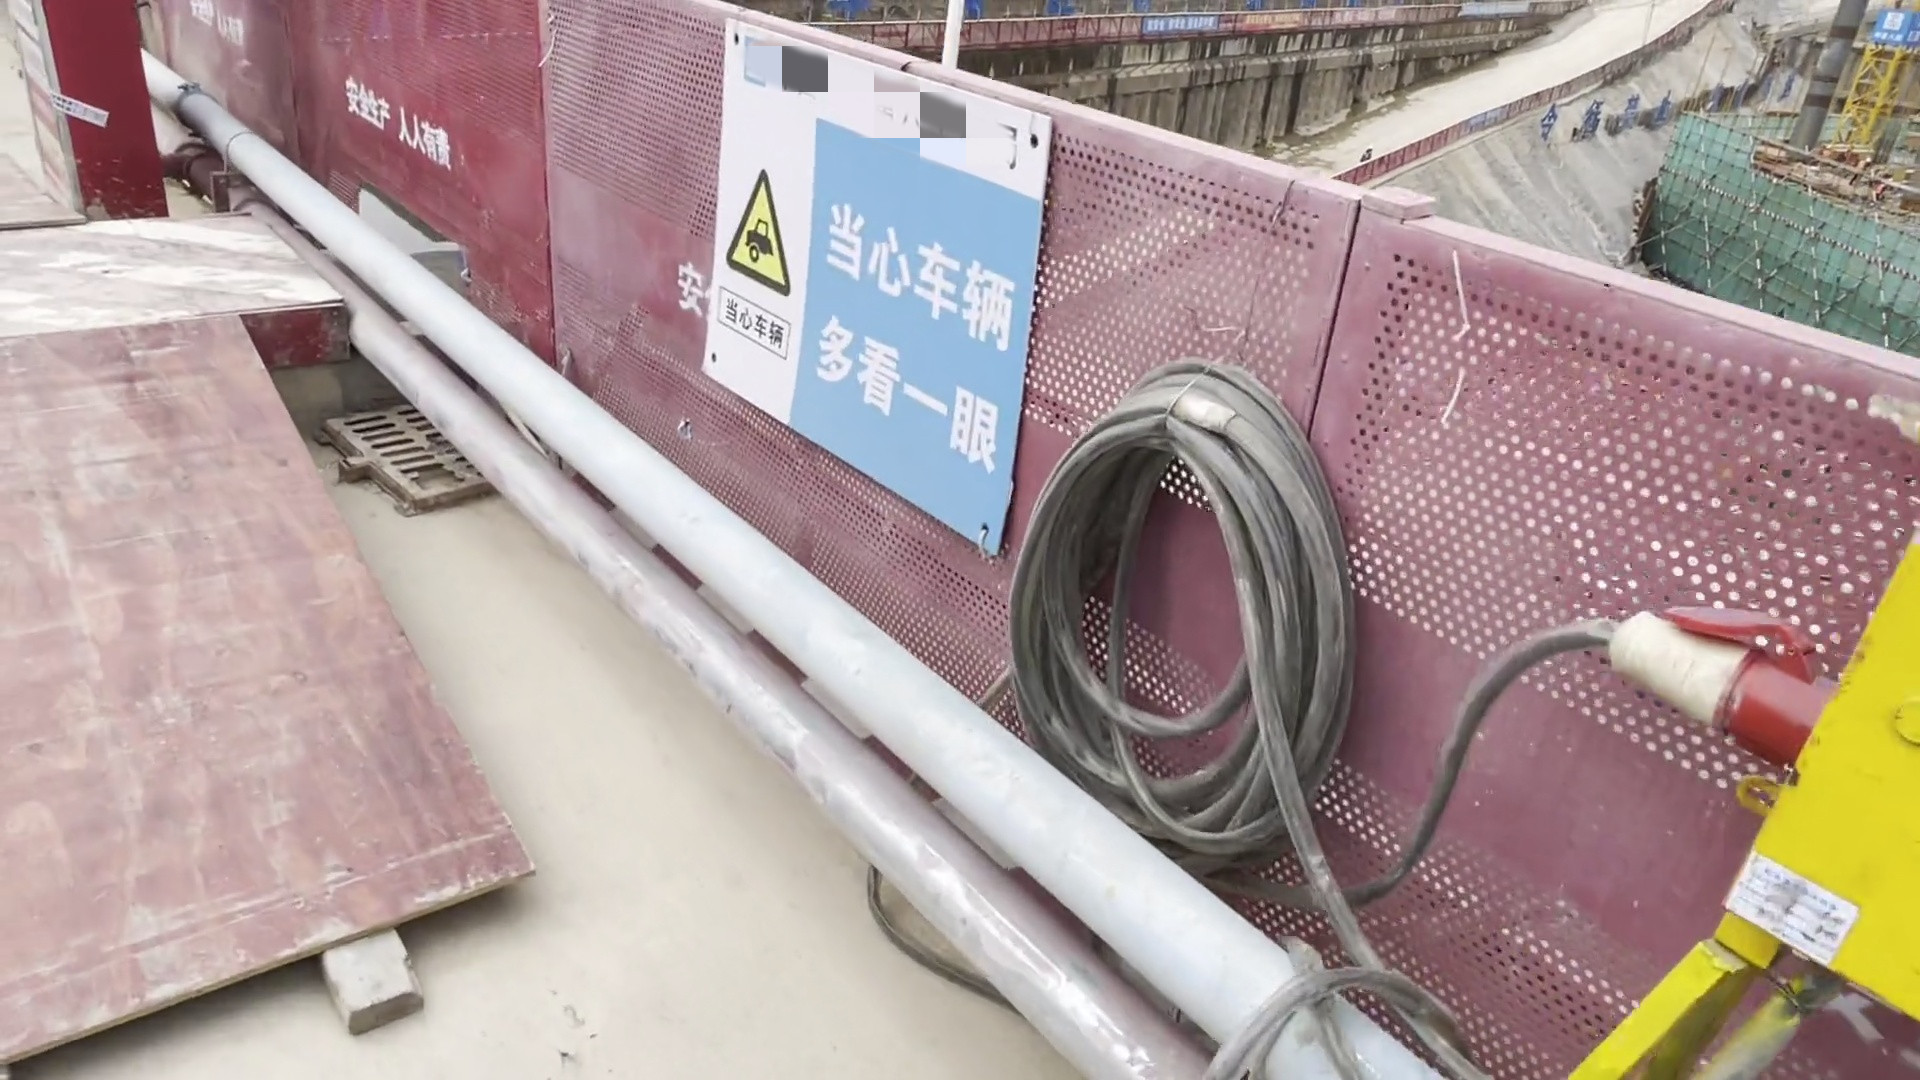board: (1, 307, 535, 1063)
ebox: (1563, 534, 1920, 1073)
fence: (319, 1, 694, 446)
slogan: (704, 13, 1043, 553)
